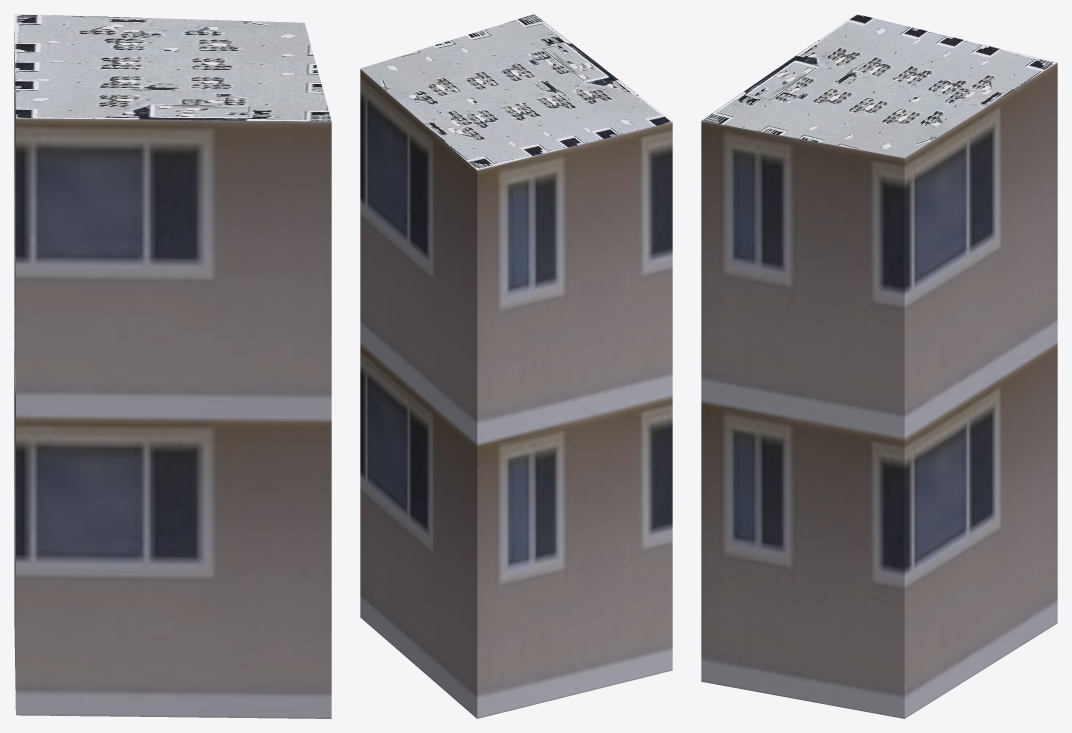
The model's file is ResTex__4035.fbx.
3 views of the same model, side by side, from view 1: azimuth 30°, elevation 25°; view 2: azimuth 150°, elevation 25°; view 3: azimuth 270°, elevation 25° (orthographic). The views are drawn at different scales.
Visible parts, largest first — view 1: CityEngineMaterial_21_m, CityEngineMaterial_4_m; view 2: CityEngineMaterial_21_m, CityEngineMaterial_4_m; view 3: CityEngineMaterial_21_m, CityEngineMaterial_4_m.
Part boxes in pixels (box(x1,y1,x2,y2)): CityEngineMaterial_21_m: box(14, 31, 331, 718); CityEngineMaterial_4_m: box(14, 14, 331, 121); CityEngineMaterial_21_m: box(360, 69, 672, 718); CityEngineMaterial_4_m: box(360, 14, 672, 170); CityEngineMaterial_21_m: box(701, 62, 1057, 718); CityEngineMaterial_4_m: box(701, 14, 1057, 157).
Size of the model in its own units: 3.31 by 6 by 3.46.
Materials: 2 (2 with a texture image).
